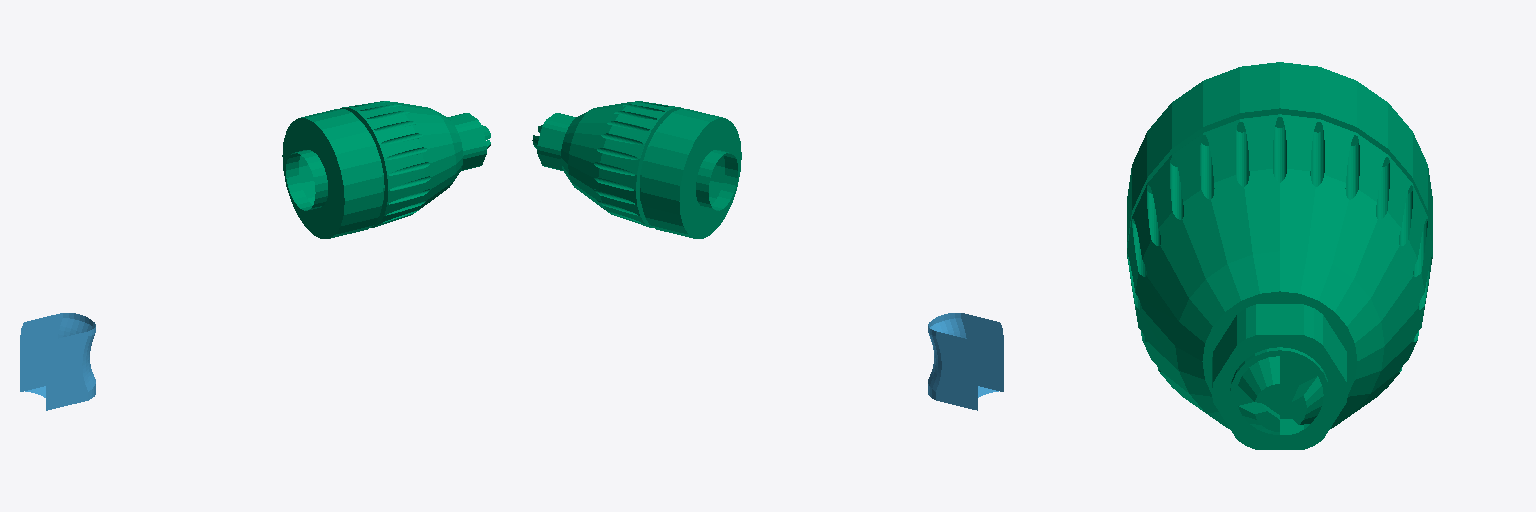
robot.urdf — actuated_drill:
<?xml version="1.0"?>
<robot name="actuated_drill">
  <link name="base">
    <visual>
      <geometry>
        <mesh filename="assets/base.obj" />
      </geometry>
    </visual>
    <collision>
      <geometry>
        <mesh filename="assets/base.obj" />
      </geometry>
    </collision>
  </link>
  <link name="trigger">
    <visual>
      <geometry>
        <mesh filename="assets/trigger.obj" />
      </geometry>
    </visual>
    <collision>
      <geometry>
        <mesh filename="assets/trigger.obj" />
      </geometry>
    </collision>
  </link>
  <joint name="base_to_trigger" type="prismatic">
    <parent link="base"/>
    <child link="trigger"/>
    <axis xyz="1 0 0" />
    <limit effort="30" velocity="0.1" lower="-0.008" upper="0." />
  </joint>
  <link name="chuck">
    <visual>
      <geometry>
        <mesh filename="assets/chuck.obj" />
      </geometry>
    </visual>
    <collision>
      <geometry>
        <mesh filename="assets/chuck.obj" />
      </geometry>
    </collision>
  </link>
  <joint name="base_to_chuck" type="continuous">
    <parent link="base"/>
    <child link="chuck"/>
    <axis xyz="1 0 0" />
    <dynamics damping="1" friction="0.001"/>
  </joint>
  <link name="bit">
    <visual>
      <geometry>
        <mesh filename="assets/bit.obj" />
      </geometry>
    </visual>
  </link>
  <joint name="chuck_to_bit" type="fixed">
    <parent link="chuck"/>
    <child link="bit"/>
  </joint>
</robot>

--- Facts derived from the render (not from the file) ---
3 views of the same robot in one strip: view 1: azimuth 30°, elevation 25°; view 2: azimuth 150°, elevation 25°; view 3: azimuth 270°, elevation 25° (orthographic).
Model actuated_drill with 4 links and 3 joints (1 continuous, 1 prismatic, 1 fixed), rooted at base, posed all joints at 0.
Links seen in each view (by area): view 1: chuck, trigger; view 2: chuck, trigger; view 3: chuck.
Boxes of the visible links, x1,y1,x2,y2 form: chuck: (282, 101, 490, 238); trigger: (20, 313, 95, 410); chuck: (532, 101, 741, 238); trigger: (928, 313, 1003, 410); chuck: (1127, 62, 1432, 449).
Size in the robot's own frame: 0.1757 by 0.0419 by 0.0783 metres.
Meshes: 4 distinct files referenced, 2 mesh visuals loaded (2 OBJ); not drawn: 2 (reference not matched to a file when rendering).